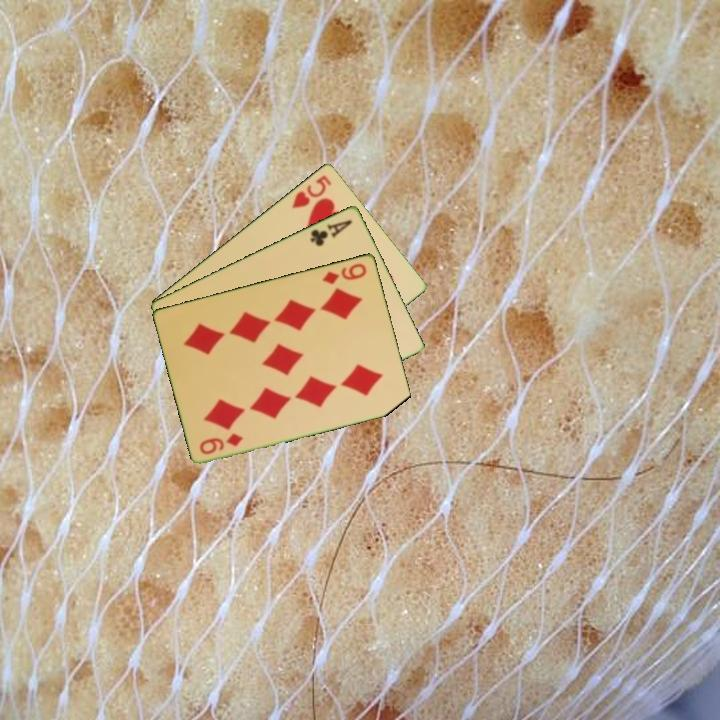5h: (288, 171, 334, 211)
9d: (319, 259, 370, 287), (196, 429, 246, 457)
Ac: (306, 216, 355, 249)
